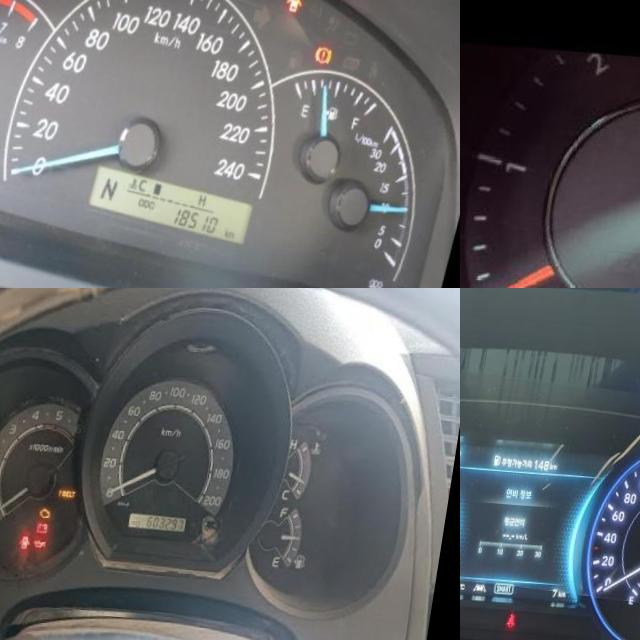LaneCenteringOff: (482, 576, 497, 586)
